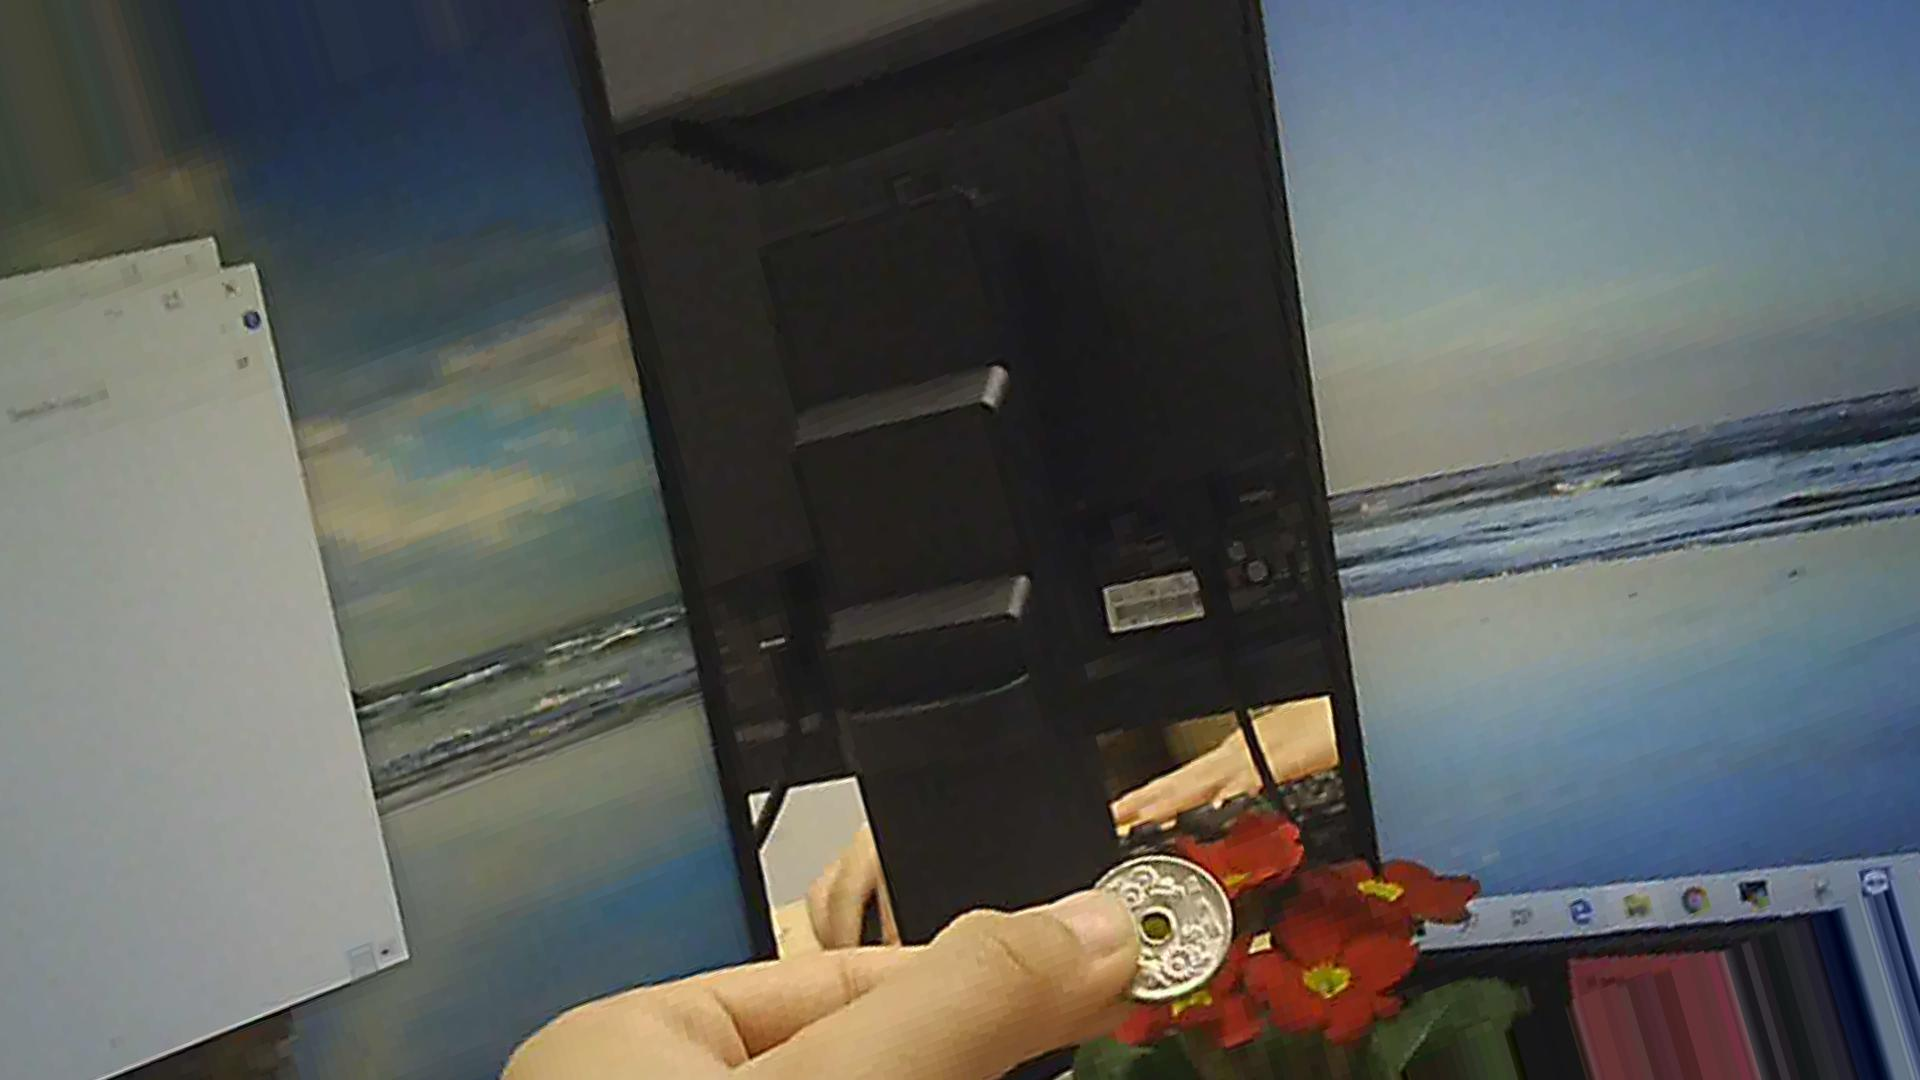50 Yen: (1083, 851, 1250, 1013)
